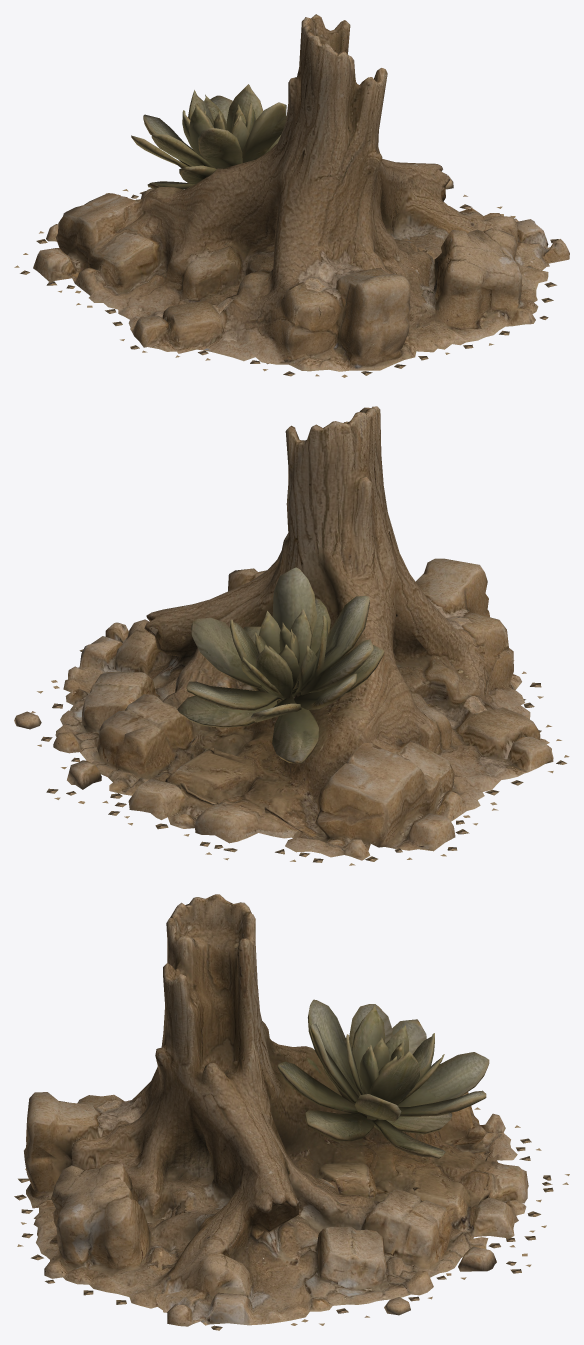
File: plant (2).glb
3 renders of one model, top to bottom at view 1: azimuth 30°, elevation 25°; view 2: azimuth 150°, elevation 25°; view 3: azimuth 270°, elevation 25°, orthographic. The views are drawn at different scales.
Parts seen in each view (by area): view 1: tripo_node_f723f233-70ed-4fd2-bb8c-942f36fd1315; view 2: tripo_node_f723f233-70ed-4fd2-bb8c-942f36fd1315; view 3: tripo_node_f723f233-70ed-4fd2-bb8c-942f36fd1315.
Boxes of the visible parts, box(x1,y1,x2,y2) form: tripo_node_f723f233-70ed-4fd2-bb8c-942f36fd1315: box(14, 14, 569, 377); tripo_node_f723f233-70ed-4fd2-bb8c-942f36fd1315: box(14, 406, 569, 865); tripo_node_f723f233-70ed-4fd2-bb8c-942f36fd1315: box(14, 894, 569, 1330).
Bounding box in the file's own units: 0.998 × 0.6035 × 0.998.
Materials: 1 (1 with a texture image).
